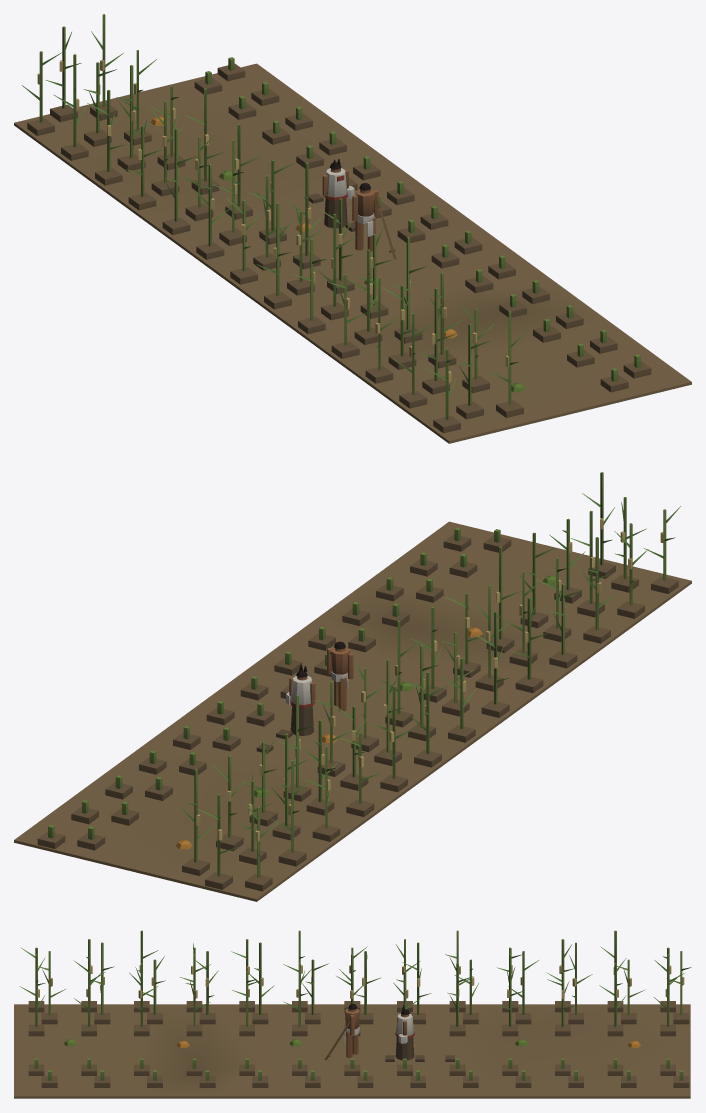
Rendered from farmer.glb.
3 renders of one model, top to bottom at view 1: azimuth 30°, elevation 25°; view 2: azimuth 150°, elevation 25°; view 3: azimuth 270°, elevation 25°, orthographic. The views are drawn at different scales.
Parts seen in each view (by area): view 1: base, anim_walk; view 2: base, anim_walk; view 3: base, anim_walk.
Part boxes in pixels (x1=…): base: x1=14, y1=14, x2=691, y2=443; anim_walk: x1=308, y1=159, x2=396, y2=259; base: x1=14, y1=472, x2=691, y2=901; anim_walk: x1=256, y1=641, x2=353, y2=753; base: x1=14, y1=930, x2=691, y2=1098; anim_walk: x1=324, y1=1004, x2=454, y2=1061.
Size of the model in its own units: 5.95 by 2.37 by 18.03.
